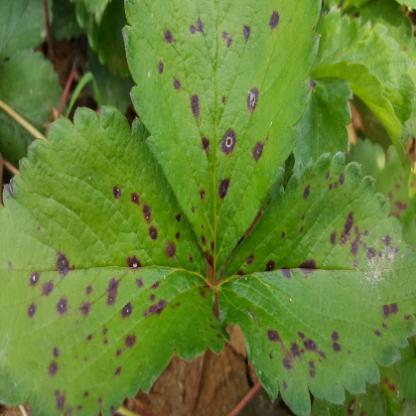Strawberry_Leaf_Spot: (0, 105, 232, 415), (122, 0, 322, 281), (213, 151, 415, 415), (265, 76, 355, 204), (348, 137, 415, 243), (343, 0, 415, 81), (373, 336, 415, 416), (310, 383, 388, 415)
